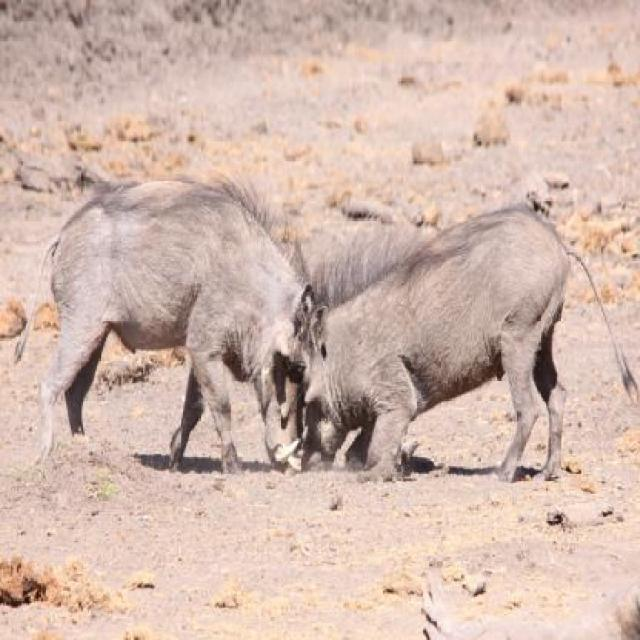Boar: (286, 198, 640, 478), (14, 171, 317, 475)
